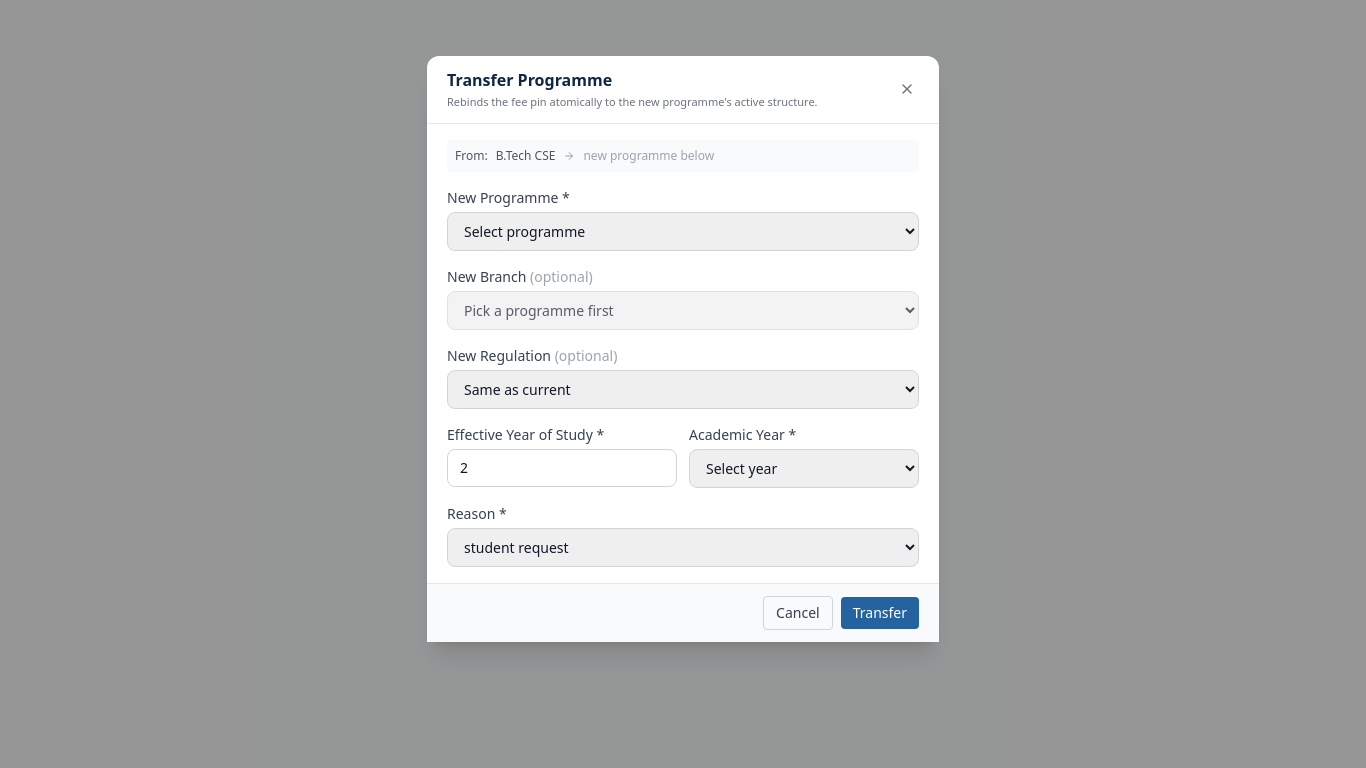
Test case: <ProgrammeTransferDialog /> › renders the backend error inline on a 4xx response
Select "B.Tech ECE" in the dropdown showing "Select programme" below "New Programme *" at (683, 231), box [447,212,919,250]
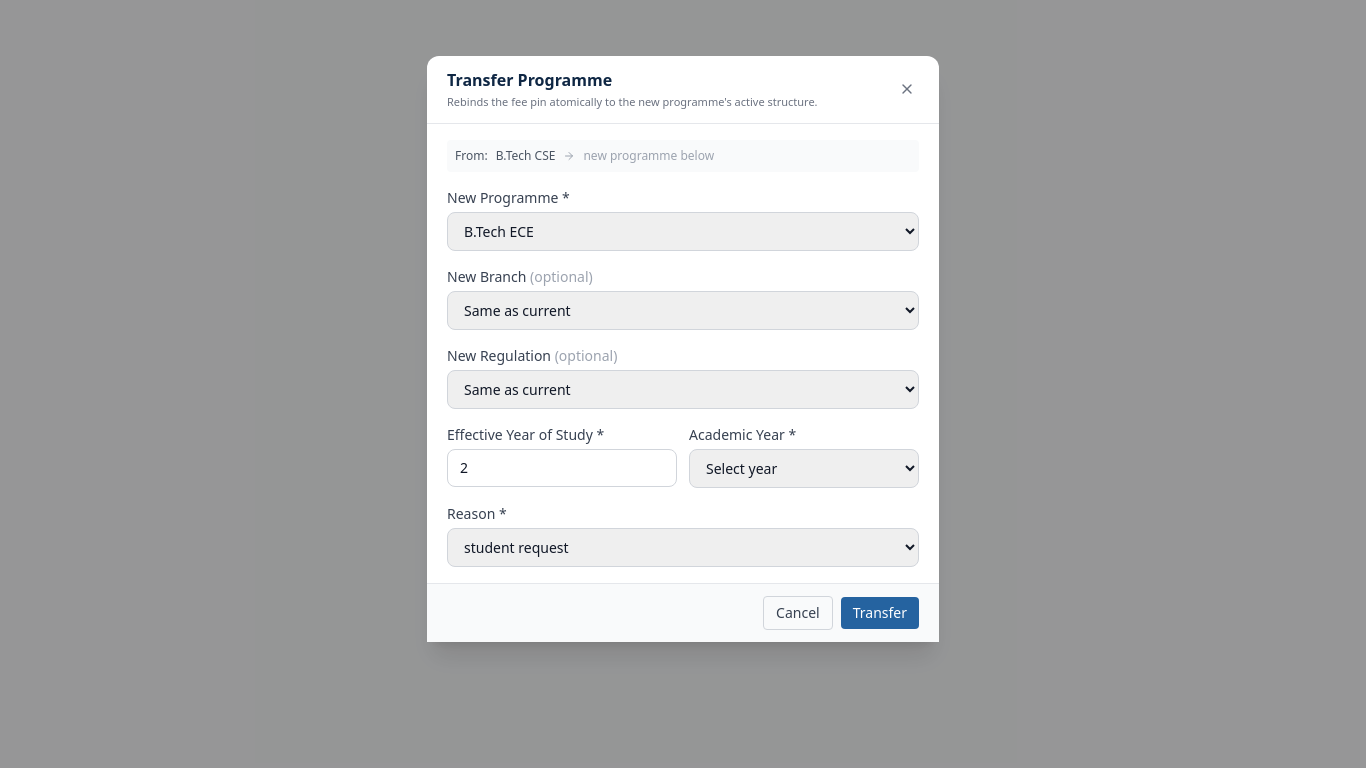
Select "2026-27" in the dropdown showing "Select year" below "Academic Year *" at (804, 468), box [689,448,919,488]
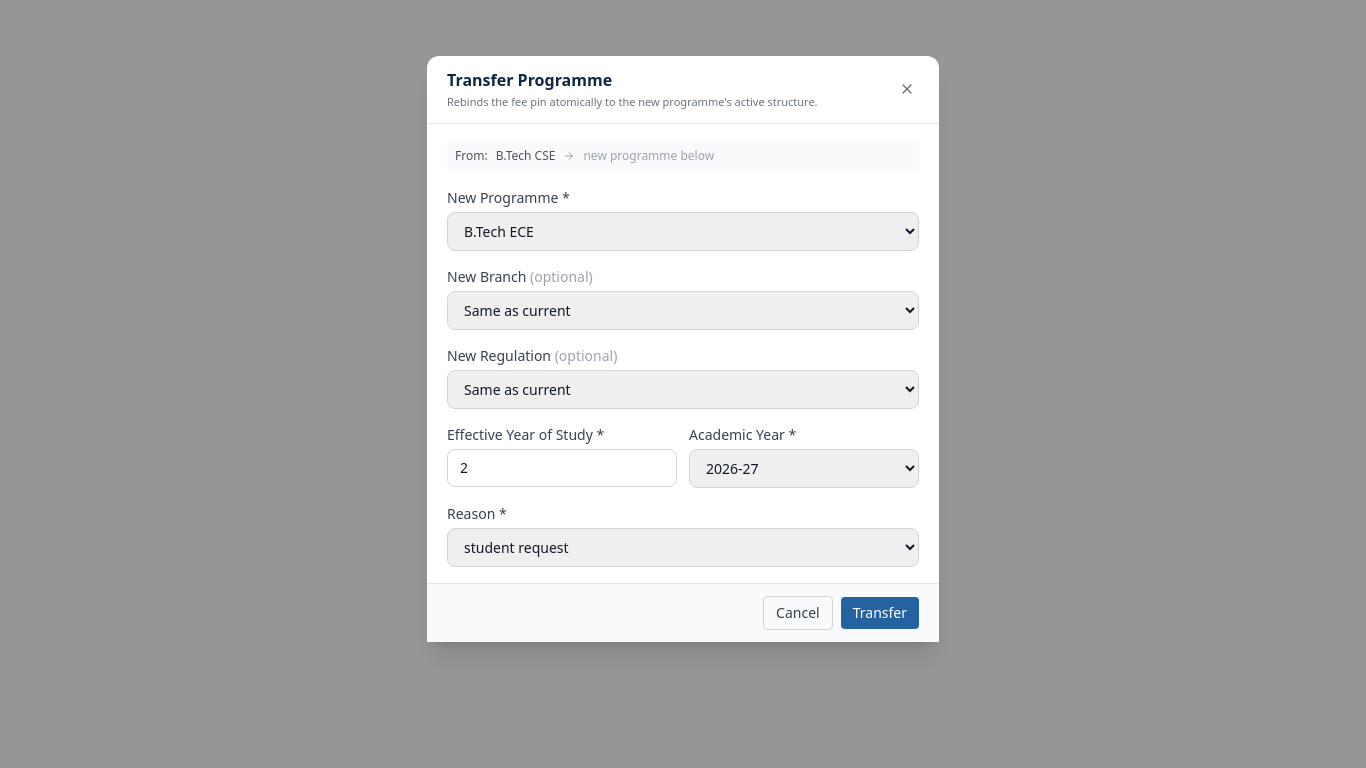
Click the button "Transfer" at (880, 612), box [841,596,919,628]
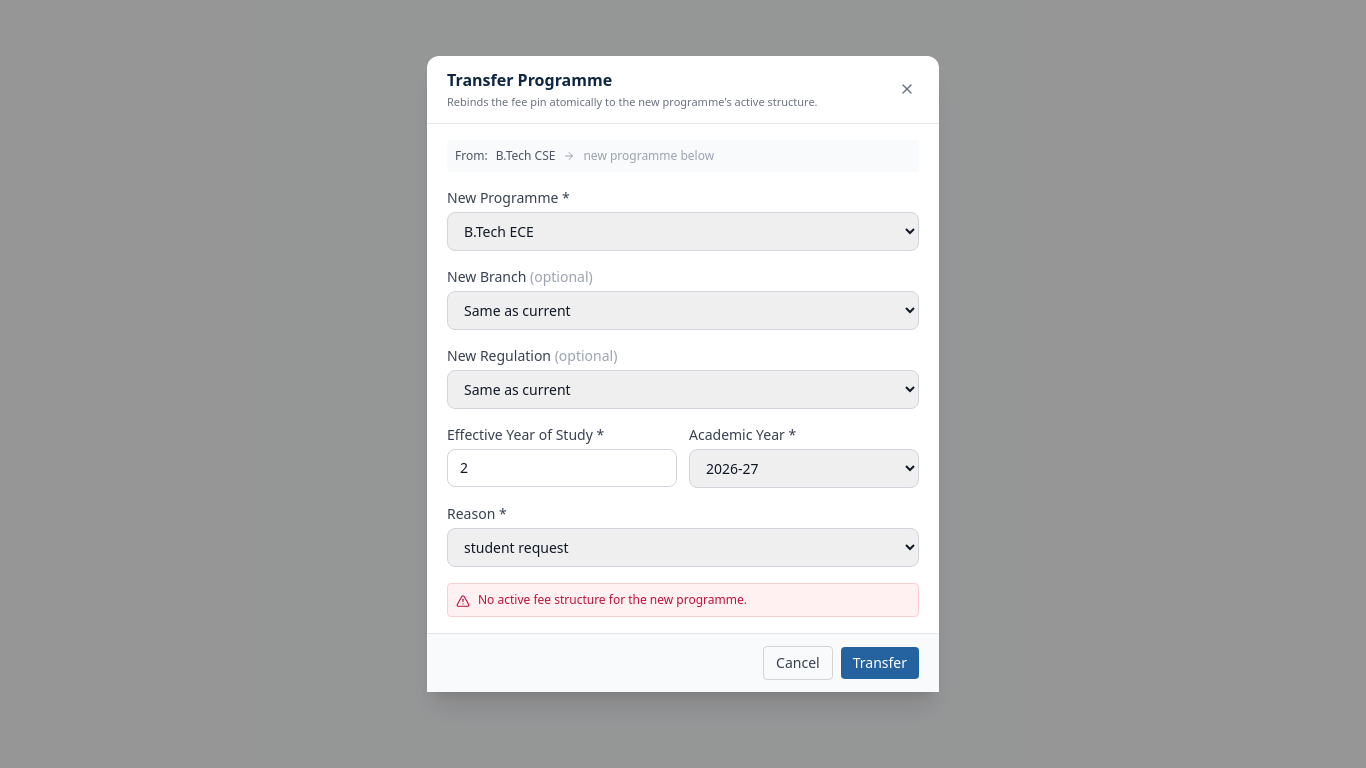
Check: the text "No active fee structure for the new programme." is shown, box [478,592,747,608]
